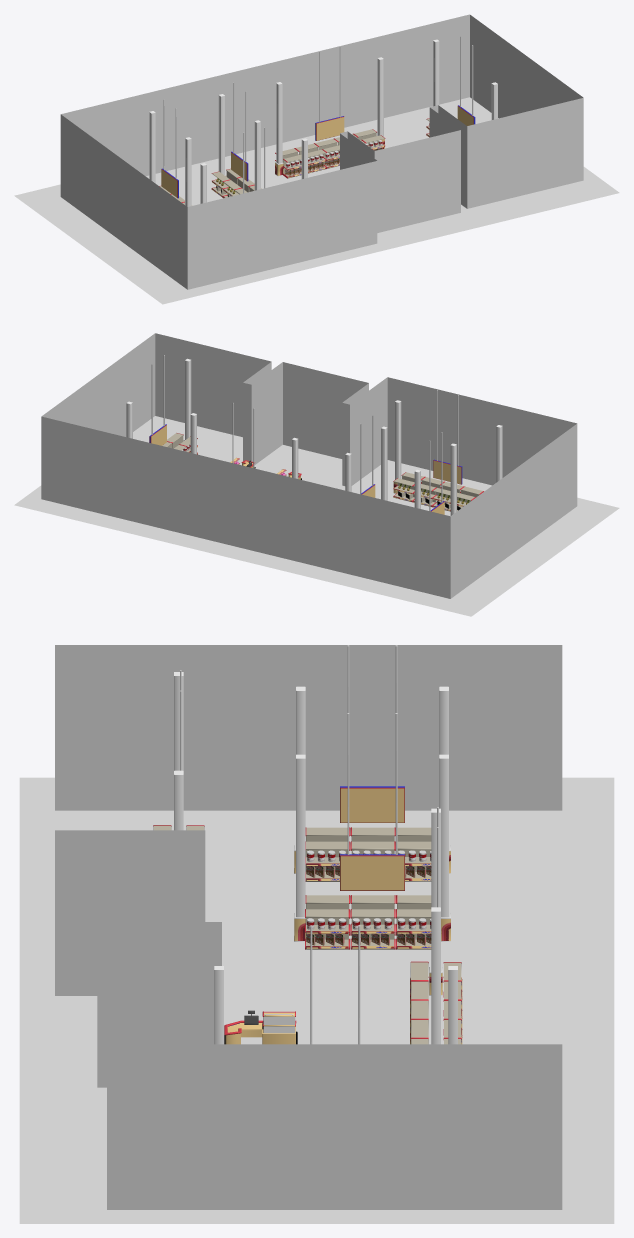
Rendered from shopSketch.fbx.
The picture shows the model from 3 angles, top to bottom: view 1: azimuth 30°, elevation 25°; view 2: azimuth 150°, elevation 25°; view 3: azimuth 270°, elevation 25°; orthographic projection. The views are drawn at different scales.
Parts seen in each view (by area): view 1: walls, floor, long island.003|Cube.003|Dupli|0.2, long island.003|Cube.003|Dupli|0.1, medium island.001|Cube.003|Dupli|0.1, long island.003|Cube.004|Dupli|, medium island|Cube.003|Dupli|0.1, medium island.001|Cube.003|Dupli|0.2, medium island|Cube.003|Dupli|0.2, long island.001|Cube.003|Dupli|0.2; view 2: walls, floor, long island.002|Cube.003|Dupli|0.1, long island.001|Cube.003|Dupli|0.1, medium island.001|Cube.003|Dupli|0.2, medium island|Cube.003|Dupli|0.2, long island.002|Cube.004|Dupli|; view 3: walls, floor, medium island.001|Cube.004|Dupli|, medium island|Cube.004|Dupli|, medium island.001|Cube.003|Dupli|0.2, medium island.001|Cube.003|Dupli|0.1, long island.003|Cube.003|Dupli|0.1, medium island.001|shelf|Dupli|0.0.4, medium island.001|shelf|Dupli|0.0.3, medium island|shelf|Dupli|0.0.3, cash register|main counter|Dupli|, medium island.001|shelf|Dupli|0.0.5 (+6 smaller).
Boxes of the visible parts, x1,y1,x2,y2 form: walls: [60, 14, 583, 289]; floor: [14, 97, 619, 304]; long island.003|Cube.003|Dupli|0.2: [275, 82, 283, 176]; long island.003|Cube.003|Dupli|0.1: [377, 57, 384, 148]; medium island.001|Cube.003|Dupli|0.1: [218, 94, 226, 176]; long island.003|Cube.004|Dupli|: [315, 116, 344, 140]; medium island|Cube.003|Dupli|0.1: [149, 111, 155, 183]; medium island.001|Cube.003|Dupli|0.2: [254, 120, 260, 190]; medium island|Cube.003|Dupli|0.2: [185, 137, 191, 206]; long island.001|Cube.003|Dupli|0.2: [433, 39, 439, 106]; walls: [41, 333, 577, 598]; floor: [14, 416, 619, 616]; long island.002|Cube.003|Dupli|0.1: [393, 400, 401, 493]; long island.001|Cube.003|Dupli|0.1: [183, 358, 191, 440]; medium island.001|Cube.003|Dupli|0.2: [381, 426, 387, 500]; medium island|Cube.003|Dupli|0.2: [450, 443, 456, 515]; long island.002|Cube.004|Dupli|: [433, 459, 462, 484]; walls: [55, 645, 562, 1209]; floor: [19, 777, 614, 1223]; medium island.001|Cube.004|Dupli|: [340, 854, 404, 890]; medium island|Cube.004|Dupli|: [340, 786, 404, 822]; medium island.001|Cube.003|Dupli|0.2: [294, 754, 305, 941]; medium island.001|Cube.003|Dupli|0.1: [439, 754, 450, 941]; long island.003|Cube.003|Dupli|0.1: [431, 907, 440, 1044]; medium island.001|shelf|Dupli|0.0.4: [350, 909, 395, 949]; medium island.001|shelf|Dupli|0.0.3: [305, 909, 349, 949]; medium island|shelf|Dupli|0.0.3: [305, 841, 349, 881]; cash register|main counter|Dupli|: [225, 1023, 295, 1044]; medium island.001|shelf|Dupli|0.0.5: [396, 909, 431, 949].
Bounding box in the file's own units: 5379 × 1268 × 3028.
